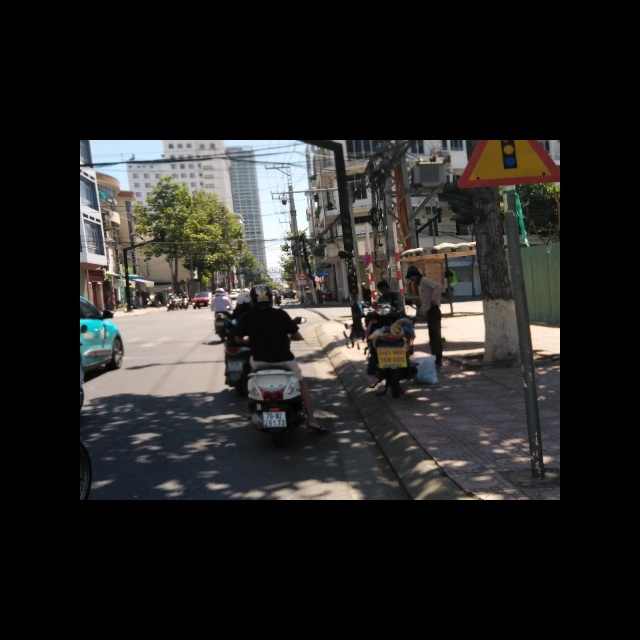Giao nhau có tín hiệu đèn: (459, 140, 563, 186)
